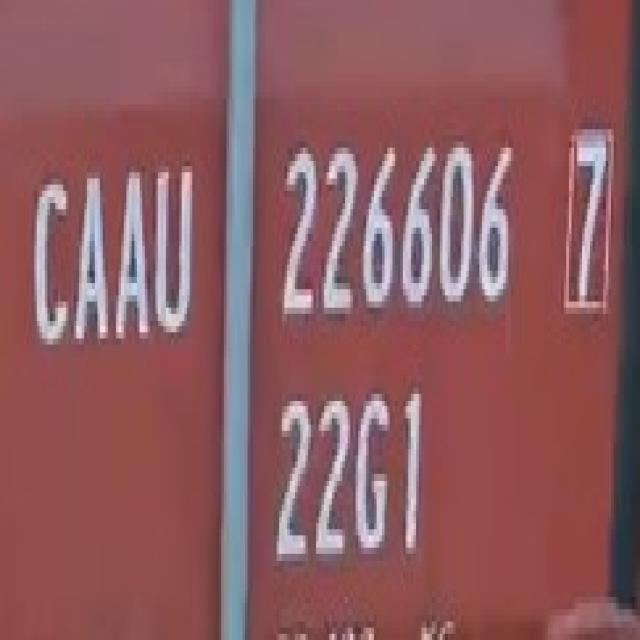dv: (553, 106, 629, 332)
owner: (25, 146, 206, 384)
serial: (269, 110, 530, 336)
size: (265, 370, 434, 575)
